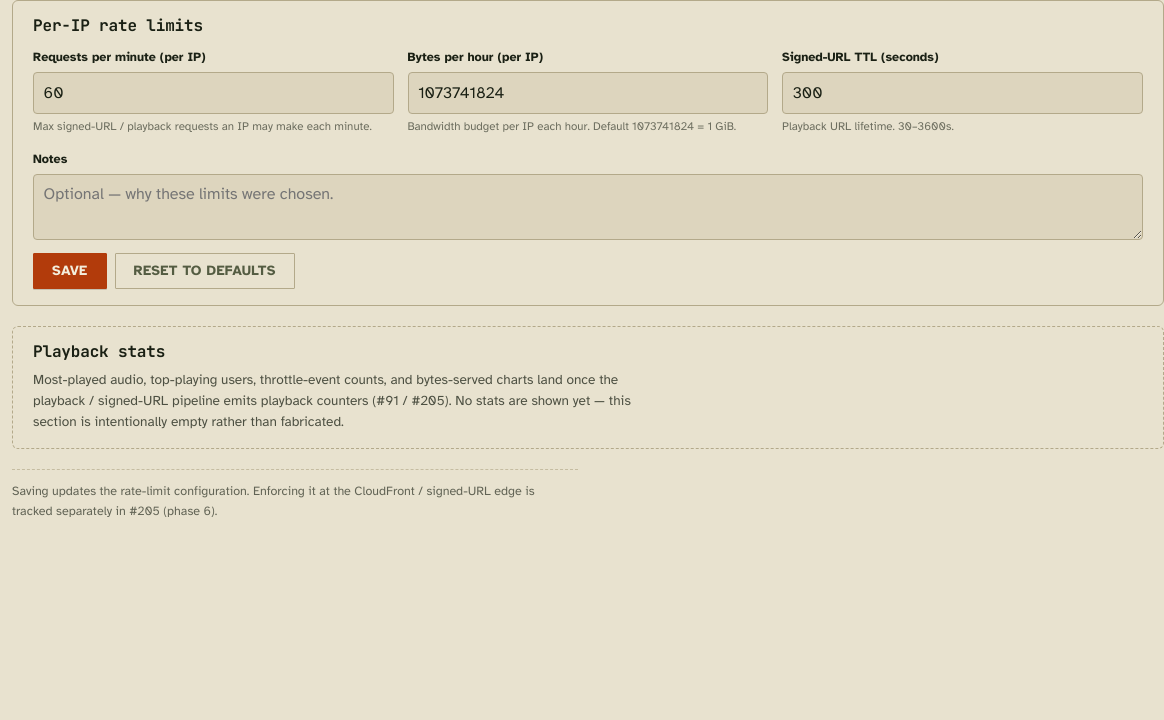
PlaybackConfigEditor › blocks save and shows a field error on invalid TTL
Replace the text in the number field labelled "Signed-URL TTL (seconds)" with "5" at [963, 93], box [782, 72, 1143, 114]
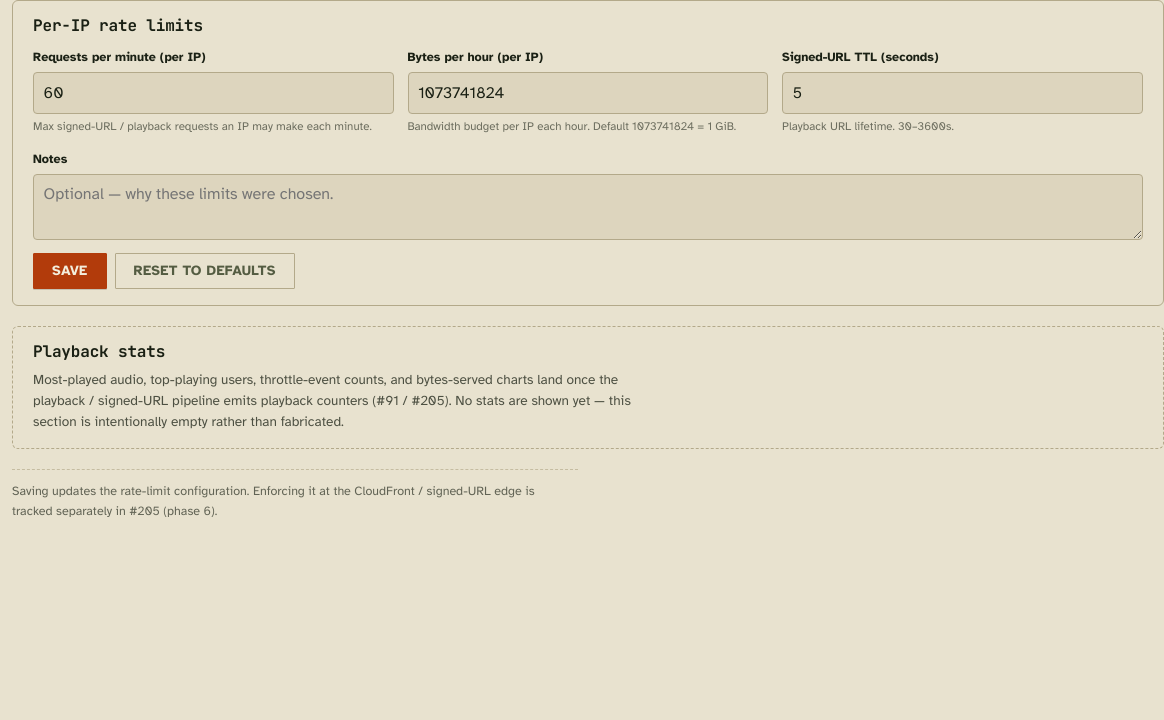
Click the button "Save".
click(70, 271)  # box [33, 253, 106, 289]
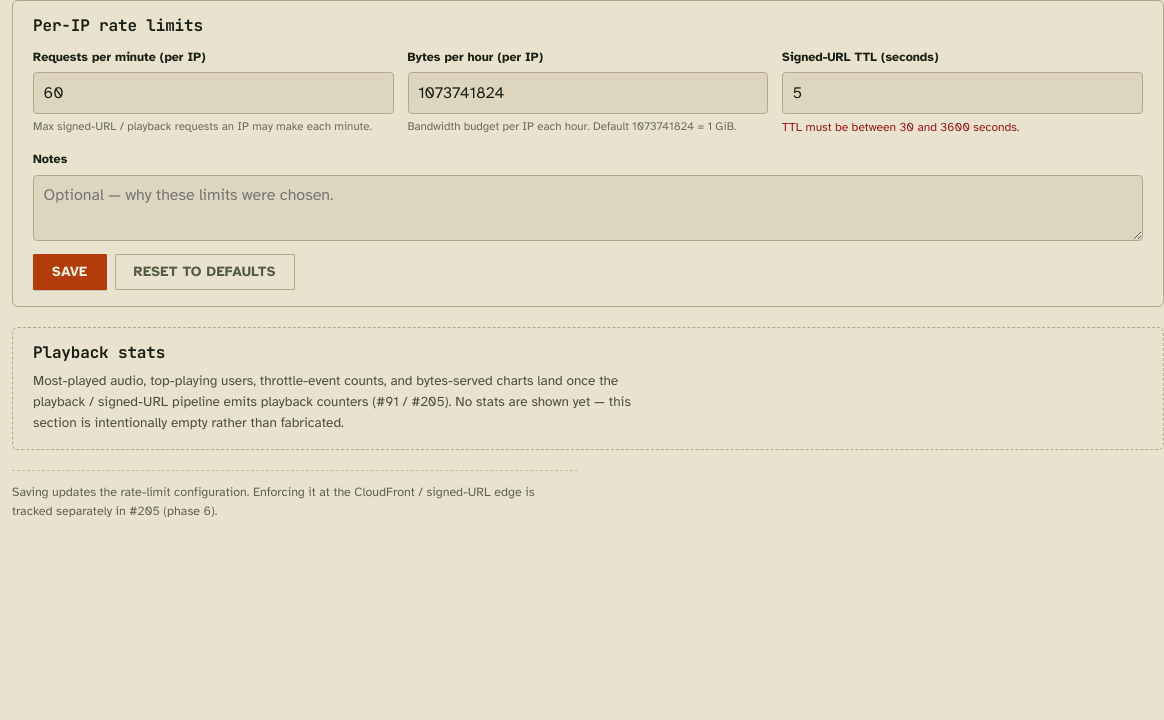
Now the text "TTL must be between 30 and 3600 seconds." is shown, box [782, 120, 1019, 134]
